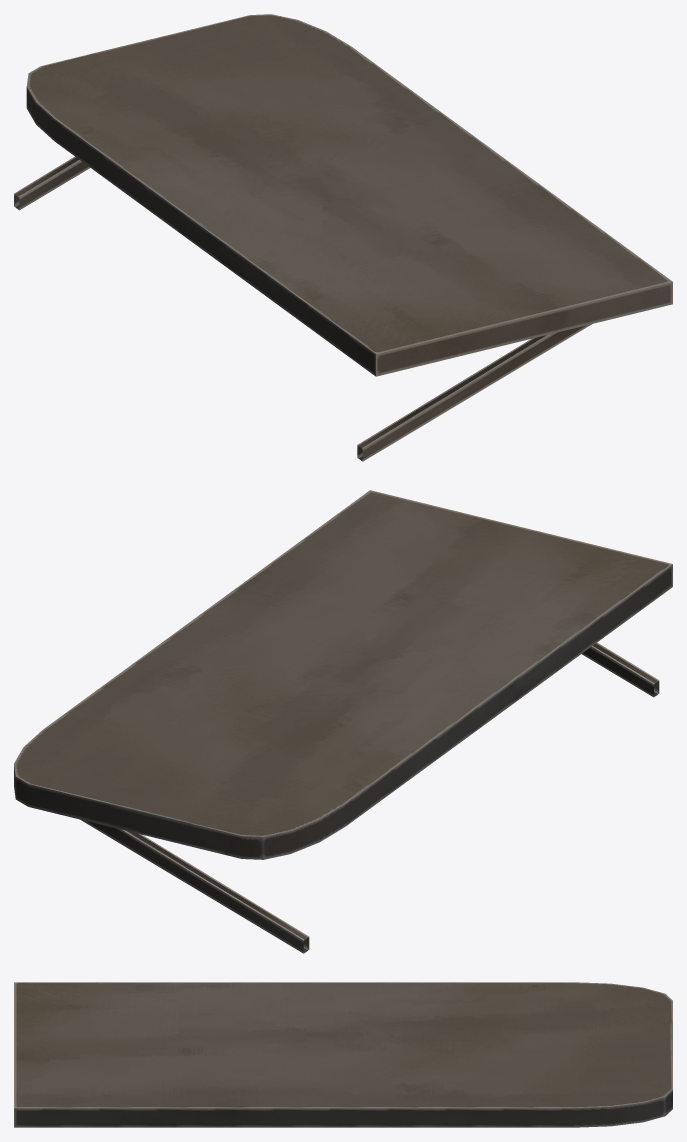
The model's file is Cela_Banco.fbx.
3 renders of one model, top to bottom at view 1: azimuth 30°, elevation 25°; view 2: azimuth 150°, elevation 25°; view 3: azimuth 270°, elevation 25°, orthographic. The views are drawn at different scales.
Visible parts, largest first — view 1: Plane.106; view 2: Plane.106; view 3: Plane.106.
Part boxes in pixels (x1,y1,x2,y2): Plane.106: [14, 14, 672, 461]; Plane.106: [14, 490, 672, 953]; Plane.106: [14, 982, 672, 1127].
Size of the model in its own units: 50.63 by 19.09 by 112.
